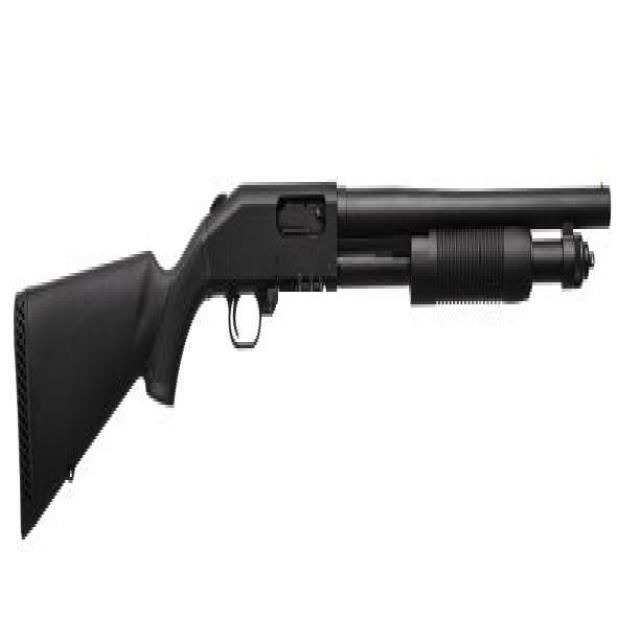rifle: (12, 158, 614, 553)
